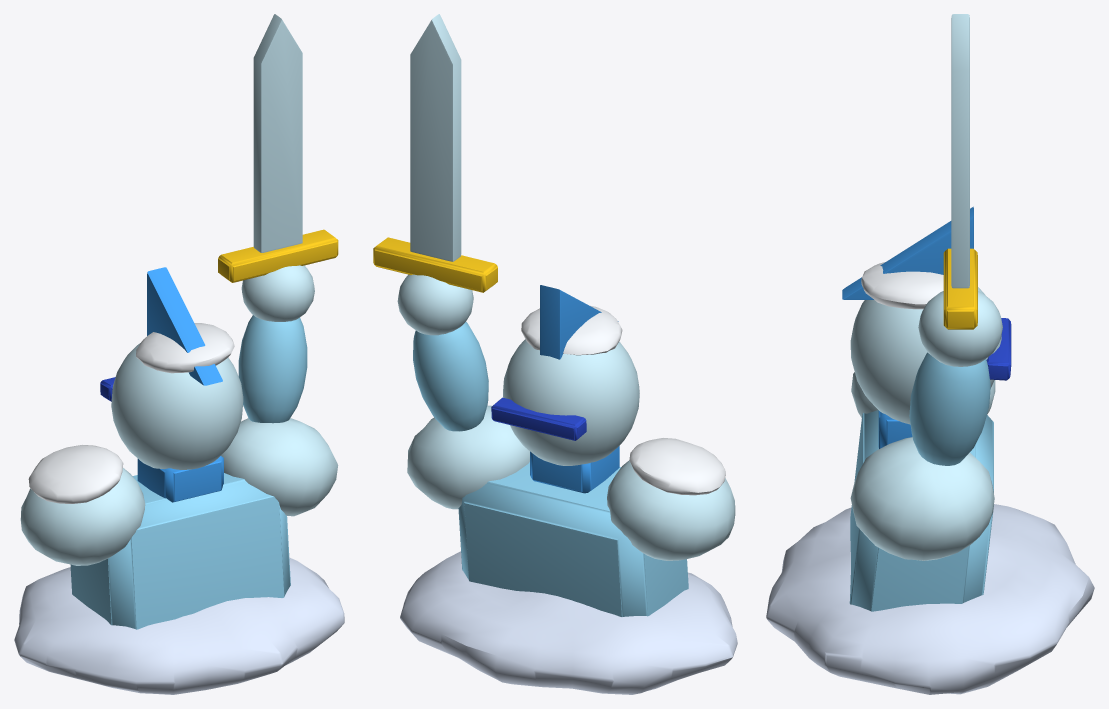
File: FrozenColossus.glb
3 renders of one model, left to right at view 1: azimuth 30°, elevation 25°; view 2: azimuth 150°, elevation 25°; view 3: azimuth 270°, elevation 25°, orthographic. The views are drawn at different scales.
Visible parts, largest first — view 1: FrozenColossus; view 2: FrozenColossus; view 3: FrozenColossus.
Boxes of the visible parts, box(x1,y1,x2,y2) form: FrozenColossus: box(14, 14, 344, 694); FrozenColossus: box(373, 14, 737, 694); FrozenColossus: box(766, 14, 1094, 694).
Bounding box in the file's own units: 32.83 × 58.1 × 24.87.
Materials: 1 (1 with a texture image).
